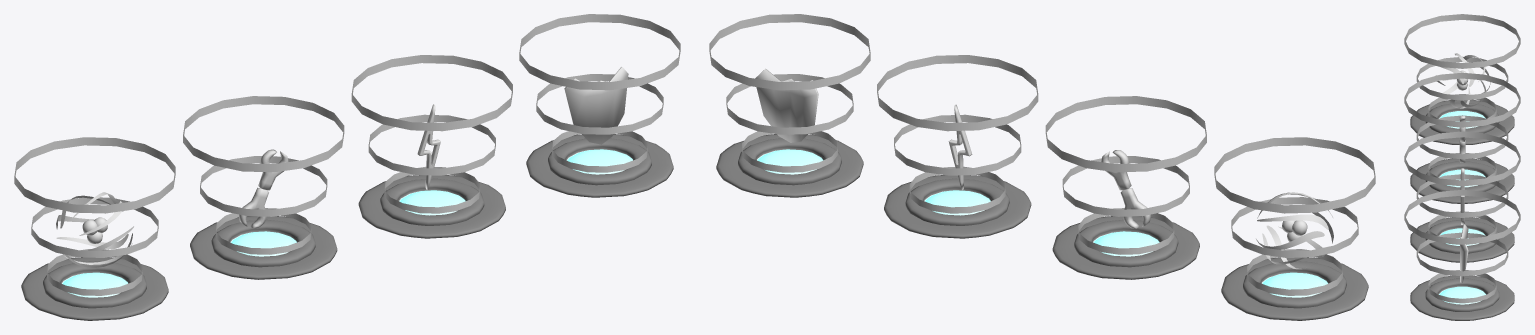
Rendered from Power ups.fbx.
3 views of the same model, side by side, from view 1: azimuth 30°, elevation 25°; view 2: azimuth 150°, elevation 25°; view 3: azimuth 270°, elevation 25° (orthographic). The views are drawn at different scales.
Visible parts, largest first — view 1: Cylinder, Cylinder.012, Cylinder.004, Cylinder.008, Cylinder.009, Cylinder.001, Cylinder.005, Cylinder.013, Plane.002, Cylinder.003, Cylinder.015, Cylinder.011 (+9 smaller); view 2: Cylinder, Cylinder.012, Cylinder.004, Cylinder.008, Cylinder.009, Cylinder.001, Cylinder.005, Cylinder.013, Plane.002, Cylinder.015, Cylinder.003, Cylinder.007 (+9 smaller); view 3: Cylinder.008, Cylinder, Cylinder.004, Cylinder.012, Cylinder.001, Cylinder.005, Cylinder.009, Cylinder.013, Cylinder.011, Cylinder.003, Cylinder.007, Cylinder.015 (+9 smaller).
Part boxes in pixels (x1,y1,x2,y2): Cylinder: (358,175,505,238); Cylinder.012: (21,257,168,320); Cylinder.004: (190,216,337,279); Cylinder.008: (526,134,673,197); Cylinder.009: (519,14,680,90); Cylinder.001: (351,55,512,131); Cylinder.005: (183,96,344,172); Cylinder.013: (14,137,175,213); Plane.002: (564,67,628,144); Cylinder.003: (368,114,495,175); Cylinder.015: (31,197,158,257); Cylinder.011: (536,74,663,134); Cylinder: (884,175,1031,238); Cylinder.012: (1221,257,1368,320); Cylinder.004: (1052,216,1199,279); Cylinder.008: (716,134,863,197); Cylinder.009: (709,14,870,90); Cylinder.001: (877,55,1038,131); Cylinder.005: (1045,96,1206,172); Cylinder.013: (1214,137,1375,213); Plane.002: (755,68,818,142); Cylinder.015: (1231,197,1358,257); Cylinder.003: (894,114,1021,175); Cylinder.007: (1062,156,1189,216); Cylinder.008: (1410,275,1514,320); Cylinder: (1410,217,1514,262); Cylinder.004: (1410,158,1514,203); Cylinder.012: (1410,99,1514,144); Cylinder.001: (1404,131,1520,186); Cylinder.005: (1404,72,1520,127); Cylinder.009: (1404,189,1520,244); Cylinder.013: (1404,14,1520,68); Cylinder.011: (1416,232,1508,276); Cylinder.003: (1416,174,1508,217); Cylinder.007: (1416,115,1508,159); Cylinder.015: (1416,56,1508,100).
Bounding box in the file's own units: 2696 × 478 × 588.
